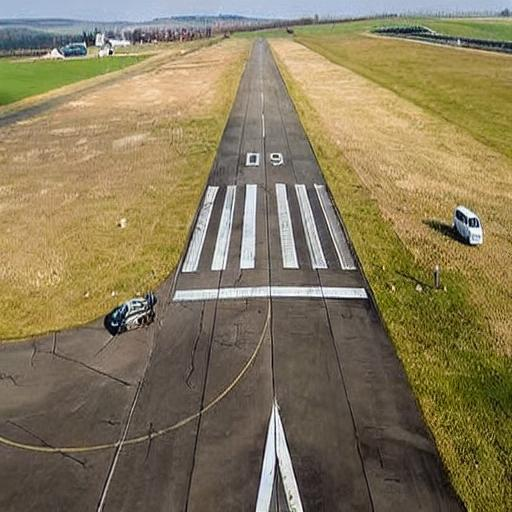oil_spill: (206, 31, 242, 105)
